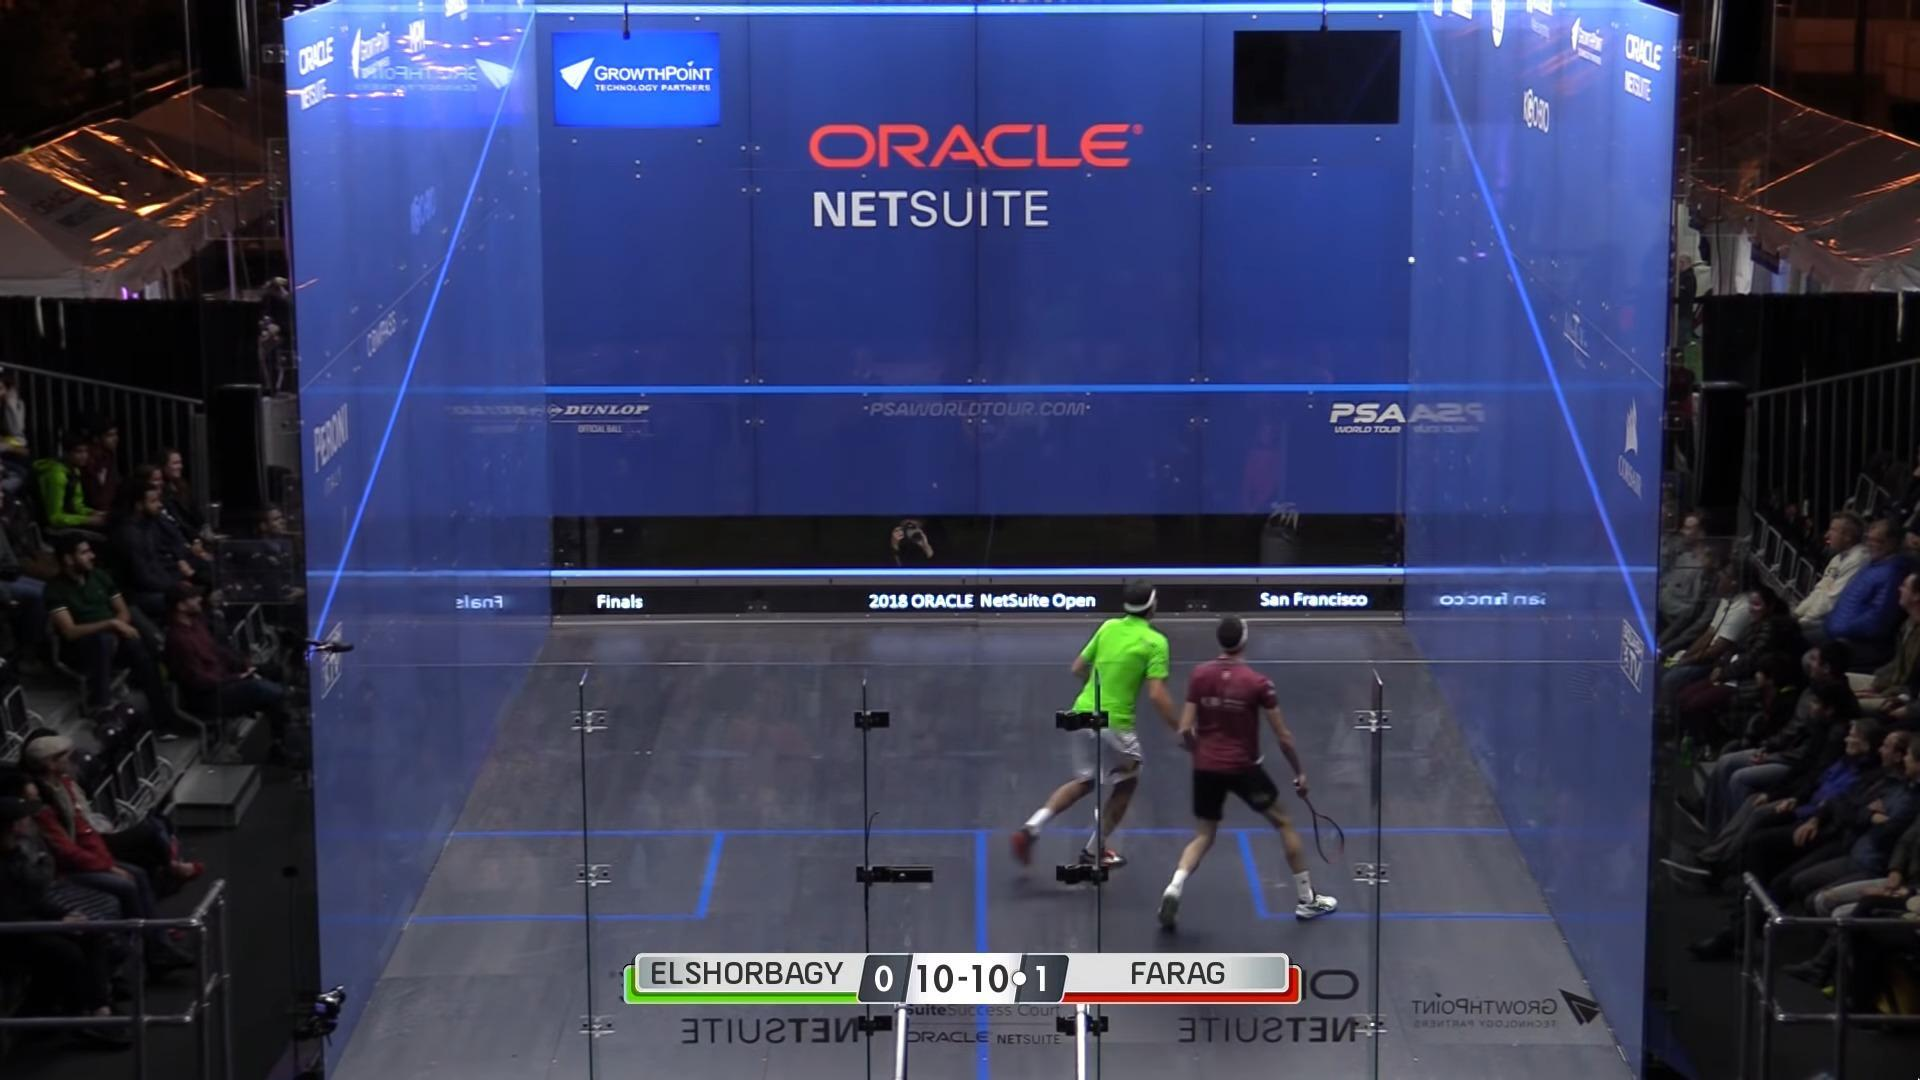Squash-Ball: (1395, 245, 1425, 273)
